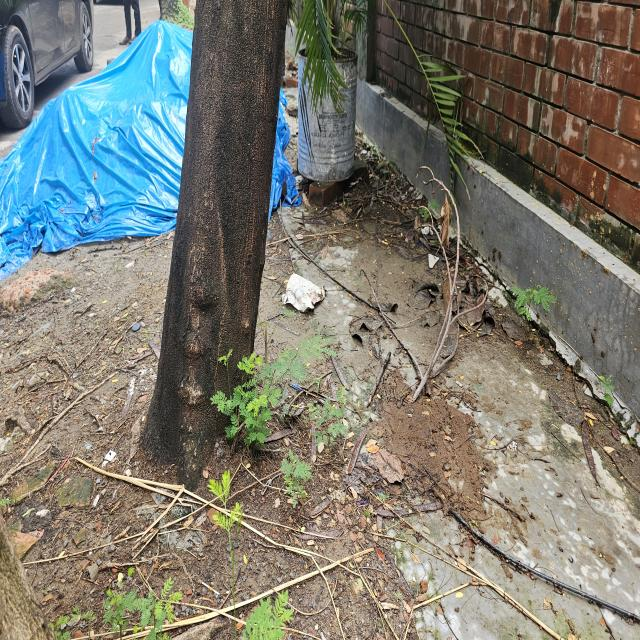artificial_container: (297, 44, 359, 185)
